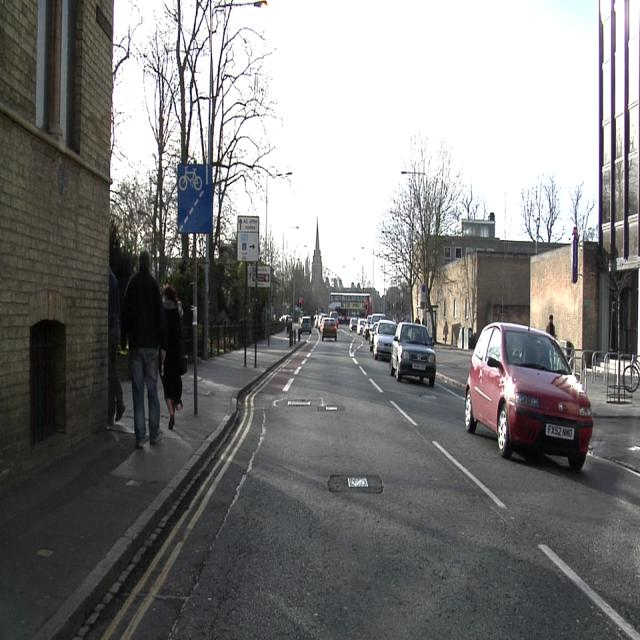Building: (0, 0, 114, 484)
Car: (465, 323, 592, 469), (390, 323, 436, 387), (374, 320, 398, 360), (321, 318, 336, 342), (355, 318, 368, 334), (300, 317, 311, 332), (350, 318, 353, 329)
Road: (86, 330, 640, 638)
Tree: (111, 0, 290, 356), (379, 138, 489, 306), (520, 173, 595, 242)
person: (121, 252, 166, 448), (162, 285, 184, 429)
